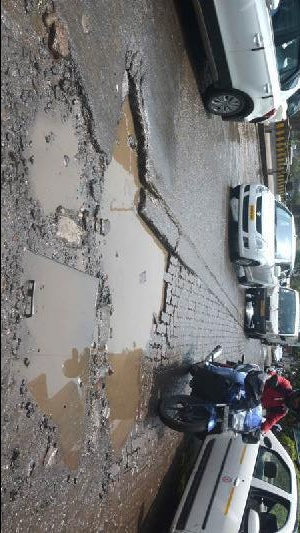pothole: (102, 60, 177, 455), (17, 245, 104, 474), (25, 78, 104, 227)
